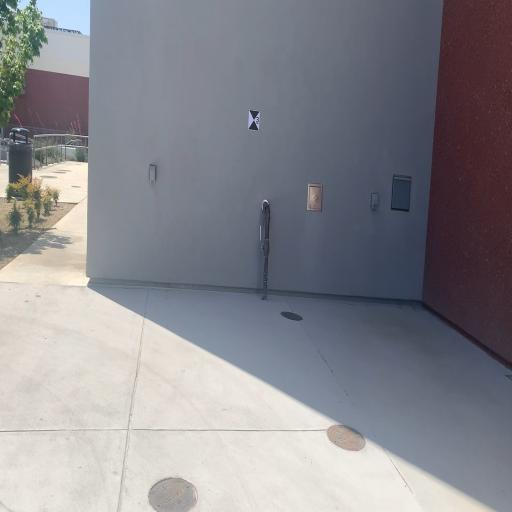target3: (247, 109, 260, 132)
